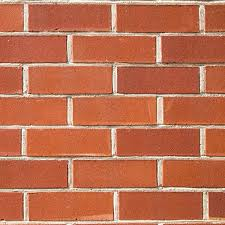brick: (116, 3, 200, 33), (28, 3, 113, 30), (71, 35, 156, 62), (73, 161, 158, 188), (117, 66, 200, 93), (27, 66, 113, 92), (117, 128, 199, 155), (74, 98, 156, 124), (28, 129, 110, 155), (29, 194, 114, 219), (118, 193, 203, 218), (1, 35, 67, 63), (163, 96, 225, 125), (161, 35, 225, 63), (1, 160, 68, 186), (1, 99, 66, 125), (163, 161, 225, 187), (1, 65, 25, 95), (1, 3, 26, 31), (1, 193, 25, 221), (203, 3, 225, 31), (1, 128, 23, 155), (206, 129, 225, 155), (207, 67, 225, 93), (209, 193, 225, 216)
